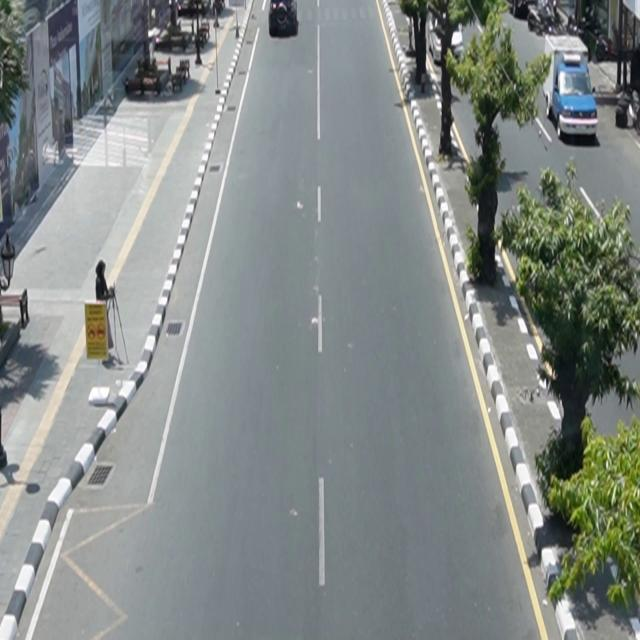car: (543, 36, 600, 141), (429, 12, 465, 67), (269, 1, 298, 38)
